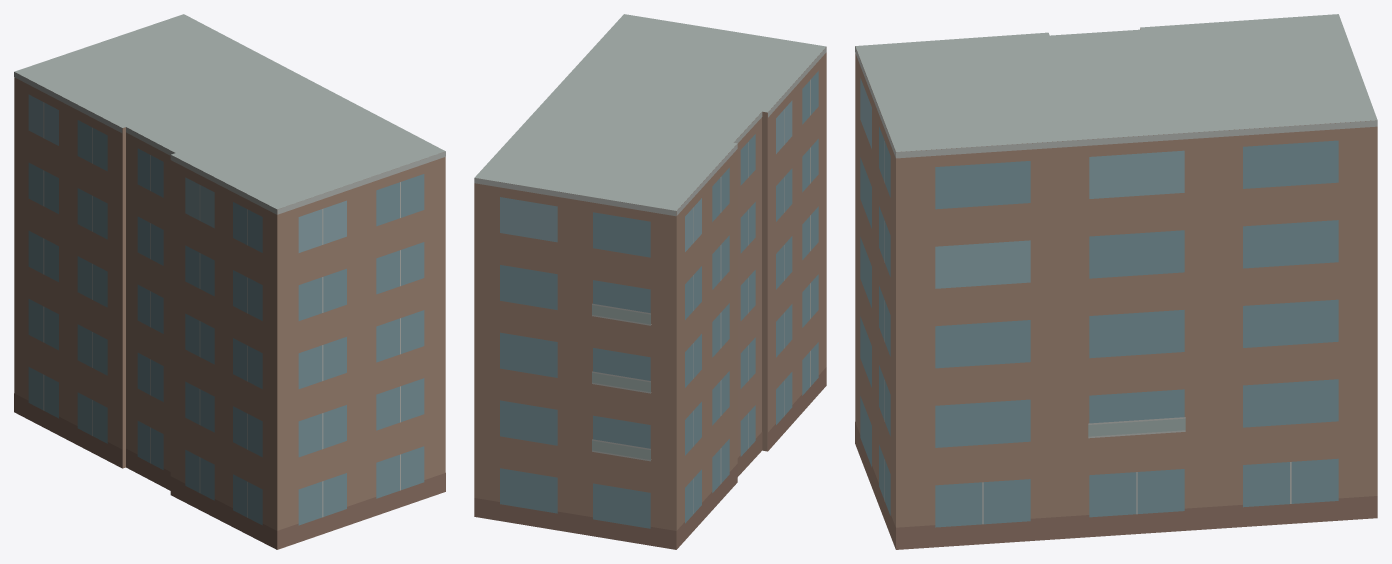
Rendered from survey-upis-32914272.glb.
3 views of the same model, side by side, from view 1: azimuth 30°, elevation 25°; view 2: azimuth 150°, elevation 25°; view 3: azimuth 270°, elevation 25° (orthographic). The views are drawn at different scales.
Parts seen in each view (by area): view 1: survey-upis-32914272.tmp; view 2: survey-upis-32914272.tmp; view 3: survey-upis-32914272.tmp.
Part boxes in pixels (x1,y1,x2,y2): survey-upis-32914272.tmp: (14,14,445,549); survey-upis-32914272.tmp: (474,14,826,549); survey-upis-32914272.tmp: (855,14,1377,549).
Bounding box in the file's own units: 11.36 × 15.25 × 18.16.
